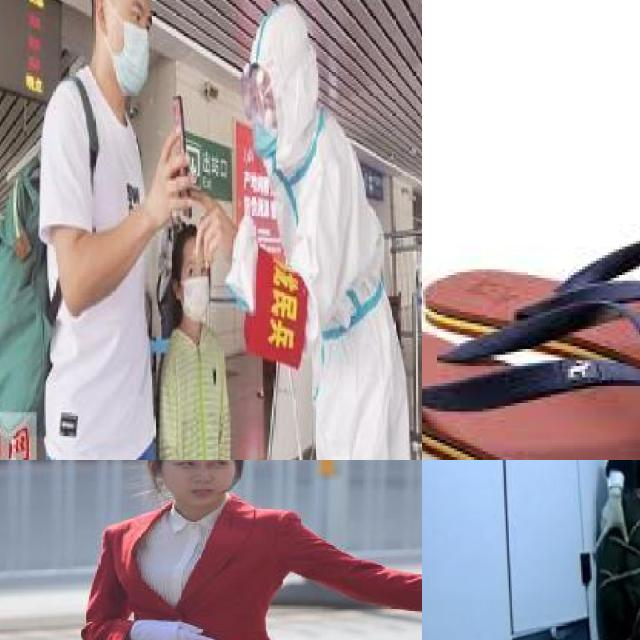No_Glasses: (167, 460, 234, 471)
Sandals: (422, 214, 640, 460)
face_mask: (99, 0, 165, 101)
face_nomask: (158, 460, 236, 511)
glasses: (228, 62, 284, 126)
hand_glove: (592, 491, 633, 553), (133, 617, 229, 640)
hand_noglove: (152, 124, 193, 220), (189, 182, 230, 276)
person: (0, 0, 193, 460), (237, 0, 421, 460), (90, 460, 369, 640), (590, 460, 640, 620)
